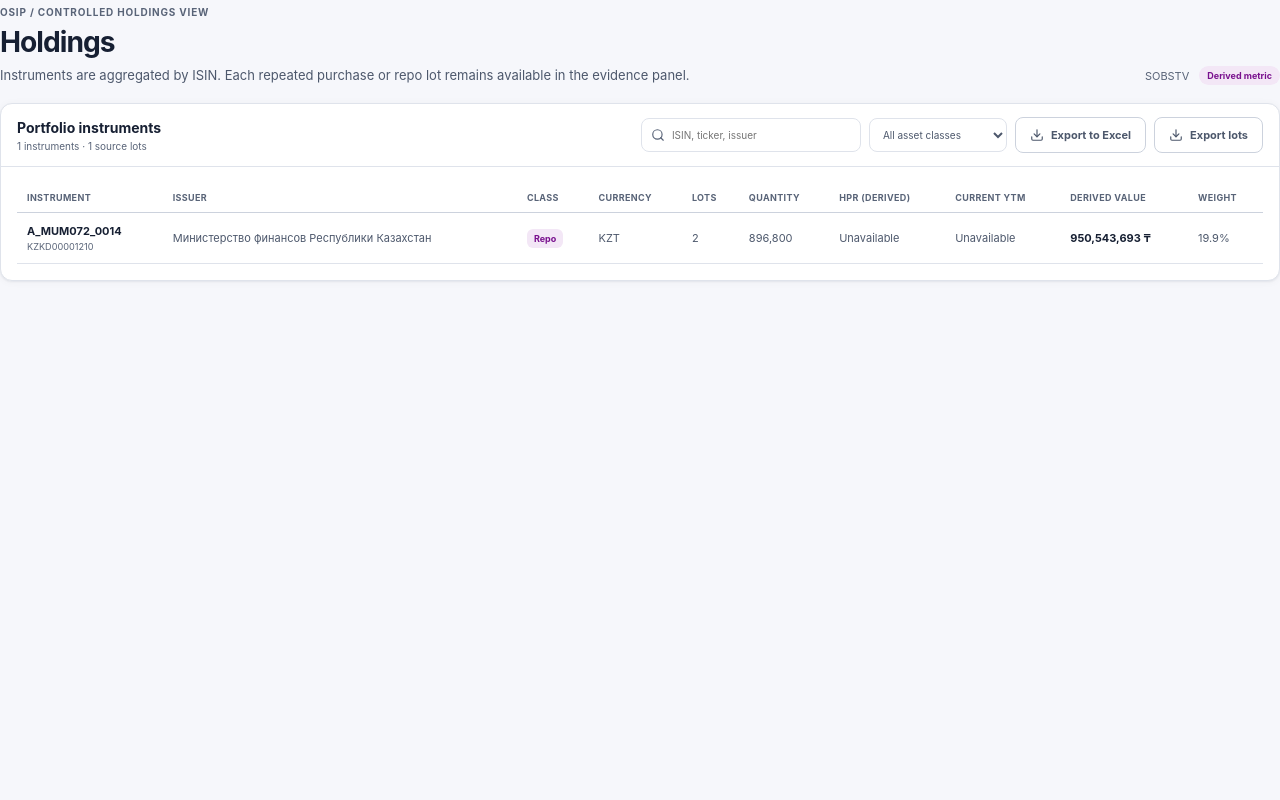
Test: HoldingsPage › labels source and derived unit prices separately in the lot detail
Click the text "A_MUM072_0014".
click(640, 238)  # box [17,213,1263,264]
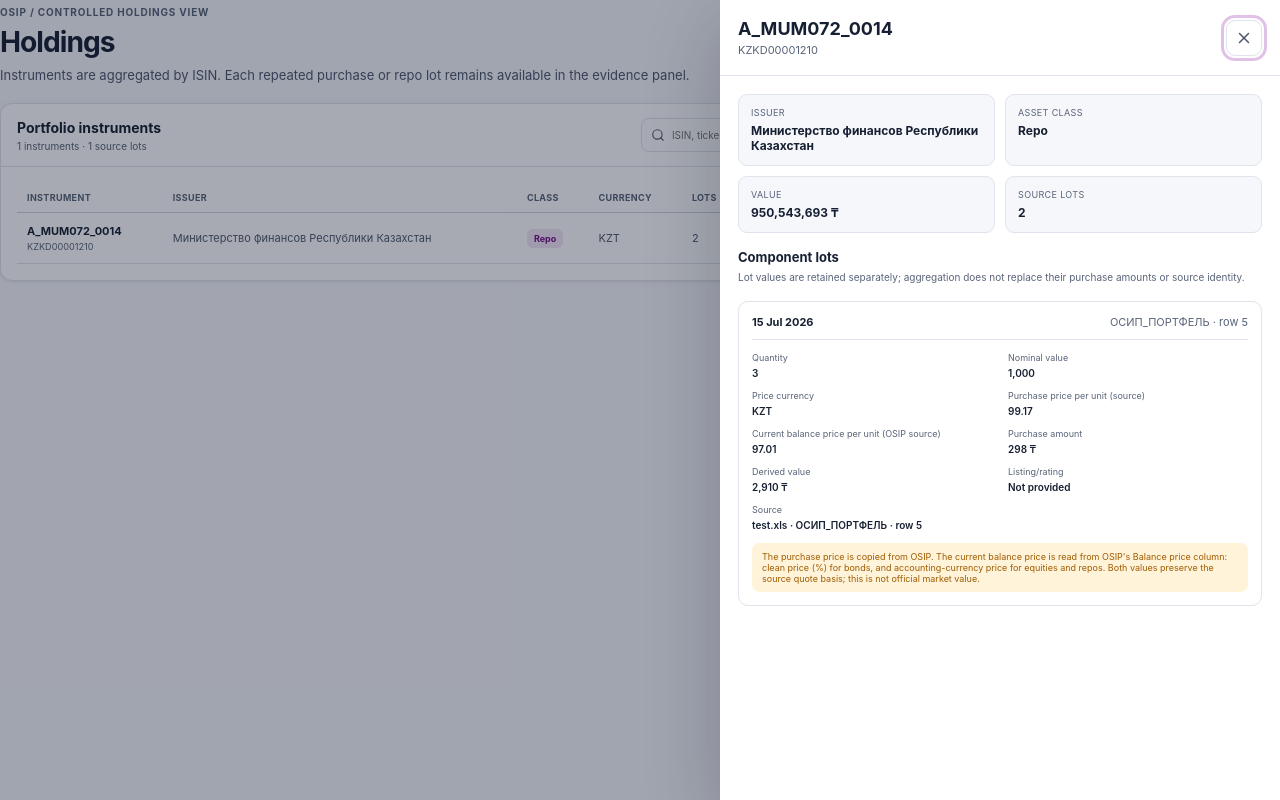
Expected: the text "Purchase price per unit (source)" is shown, [1008,390,1145,401]
Expected: the text "Current balance price per unit (OSIP source)" is shown, [752,428,941,439]
Expected: the text "Price currency" is shown, [752,390,814,401]
